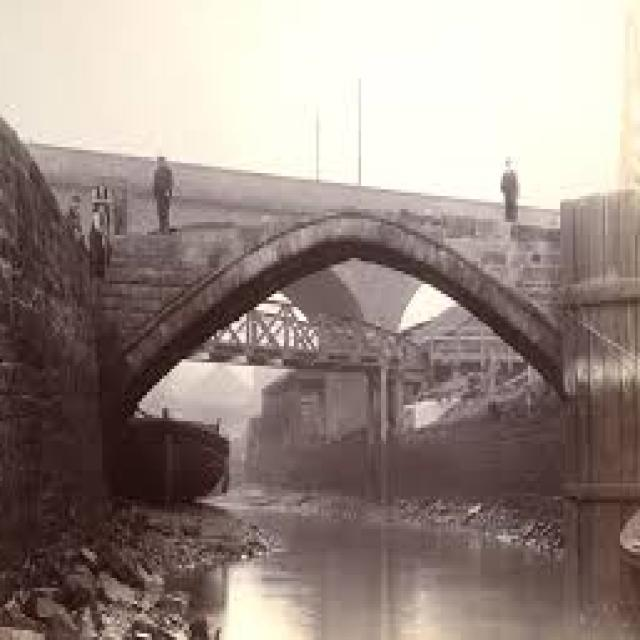Bridges: (52, 116, 583, 468)
